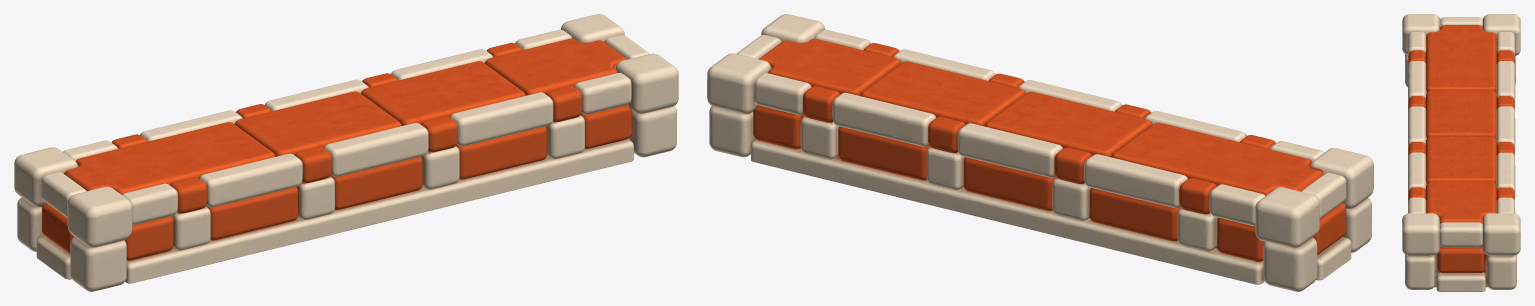
The model's file is Meshy_AI_roofline_narrow_plank_1024085245_image-to-3d-texture.glb.
3 views of the same model, side by side, from view 1: azimuth 30°, elevation 25°; view 2: azimuth 150°, elevation 25°; view 3: azimuth 270°, elevation 25° (orthographic). The views are drawn at different scales.
Size of the model in its own units: 1.9 by 0.265 by 0.4413.
Materials: 1 (1 with a texture image).
